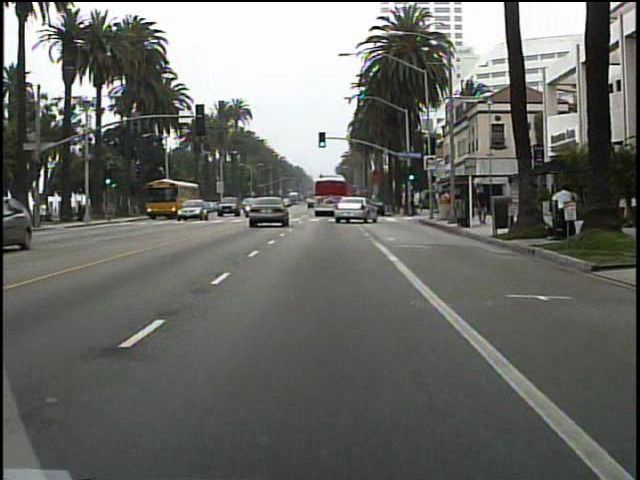person: (551, 179, 578, 243), (476, 182, 492, 229), (453, 184, 469, 223), (437, 184, 450, 220)
